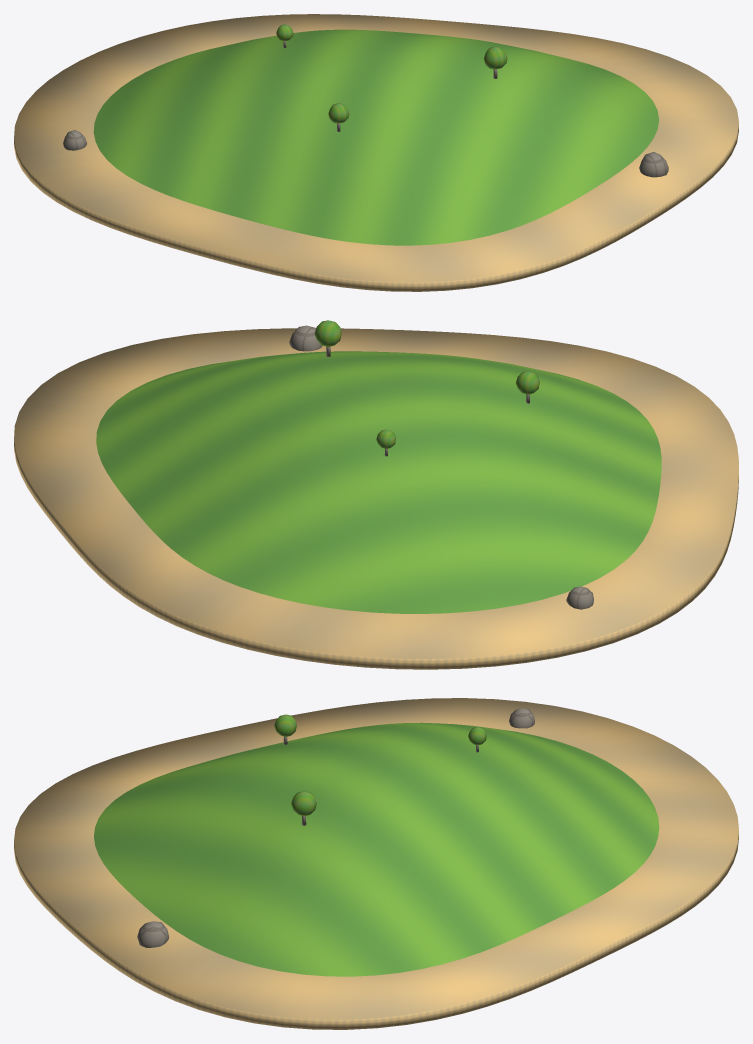
The model's file is ISL-M_LOD0.fbx.
3 renders of one model, top to bottom at view 1: azimuth 30°, elevation 25°; view 2: azimuth 150°, elevation 25°; view 3: azimuth 270°, elevation 25°, orthographic. The views are drawn at different scales.
Parts seen in each view (by area): view 1: ISL-M_LOD0_Assembled; view 2: ISL-M_LOD0_Assembled; view 3: ISL-M_LOD0_Assembled.
Part boxes in pixels (<box>): ISL-M_LOD0_Assembled: <box>14,14,738,291</box>; ISL-M_LOD0_Assembled: <box>14,320,738,669</box>; ISL-M_LOD0_Assembled: <box>14,698,738,1029</box>.
Size of the model in its own units: 105 by 99.49 by 17.64.
Materials: 3 (3 with a texture image).
